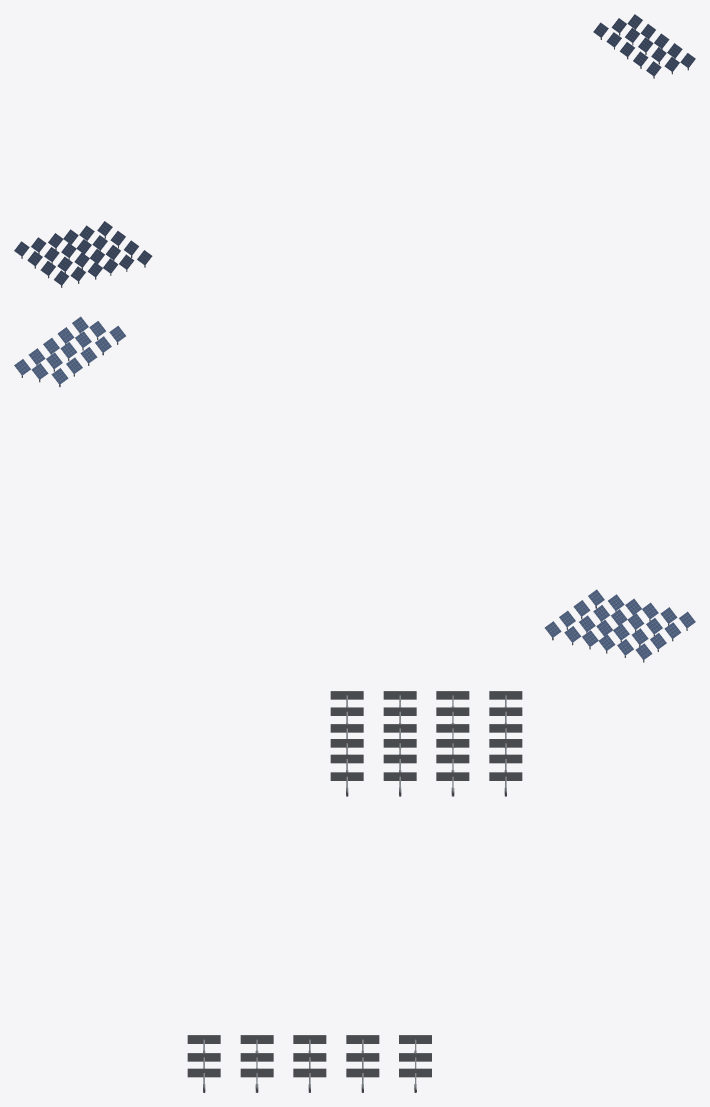
Rendered from Solider Panel.fbx.
3 views of the same model, one above another, from view 1: azimuth 30°, elevation 25°; view 2: azimuth 150°, elevation 25°; view 3: azimuth 270°, elevation 25° (orthographic). The views are drawn at different scales.
Visible parts, largest first — view 1: Cube.363, Cube.362, Cube.364, Cube.034, Cube.054, Cube.545, Cube.053, Cube.058, Cube.055; view 2: Cube.362, Cube.363, Cube.364, Cube.545, Cube.034, Cube.054, Cube.053, Cube.058, Cube.055; view 3: Cube.364, Cube.362, Cube.363, Cube.058, Cube.545, Cube.053, Cube.034, Cube.055, Cube.054.
Part boxes in pixels (<box>): Cube.363: <box>611,18,679,74</box>; Cube.362: <box>593,22,661,78</box>; Cube.364: <box>627,14,695,70</box>; Cube.034: <box>14,241,69,287</box>; Cube.054: <box>48,233,102,279</box>; Cube.545: <box>97,221,152,267</box>; Cube.053: <box>31,237,85,283</box>; Cube.058: <box>79,225,134,271</box>; Cube.055: <box>63,229,118,275</box>; Cube.362: <box>51,325,125,387</box>; Cube.363: <box>31,321,105,382</box>; Cube.364: <box>14,316,88,377</box>; Cube.545: <box>544,589,604,640</box>; Cube.034: <box>635,611,695,662</box>; Cube.054: <box>598,602,658,653</box>; Cube.053: <box>617,607,677,657</box>; Cube.058: <box>564,594,624,645</box>; Cube.055: <box>582,598,641,649</box>; Cube.364: <box>187,1068,431,1092</box>; Cube.362: <box>187,1035,431,1052</box>; Cube.363: <box>187,1053,431,1068</box>; Cube.058: <box>330,754,522,772</box>; Cube.545: <box>330,772,522,796</box>; Cube.053: <box>330,707,522,723</box>; Cube.034: <box>330,691,522,707</box>; Cube.055: <box>330,739,522,754</box>; Cube.054: <box>330,724,522,738</box>.
Size of the model in its own units: 19297 by 3488 by 4674.
